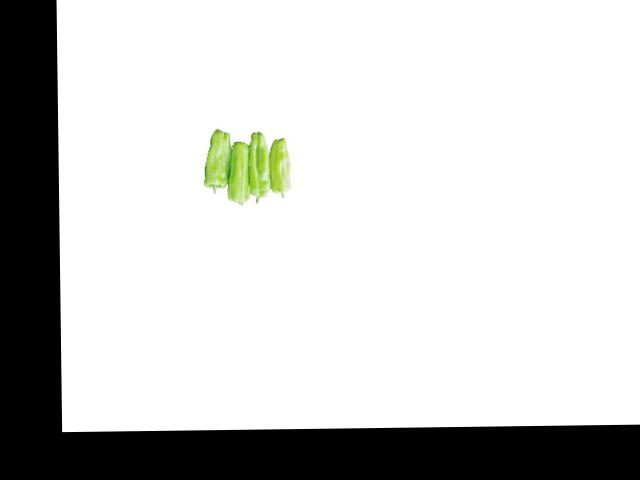bell_pepper: (203, 124, 231, 197)
